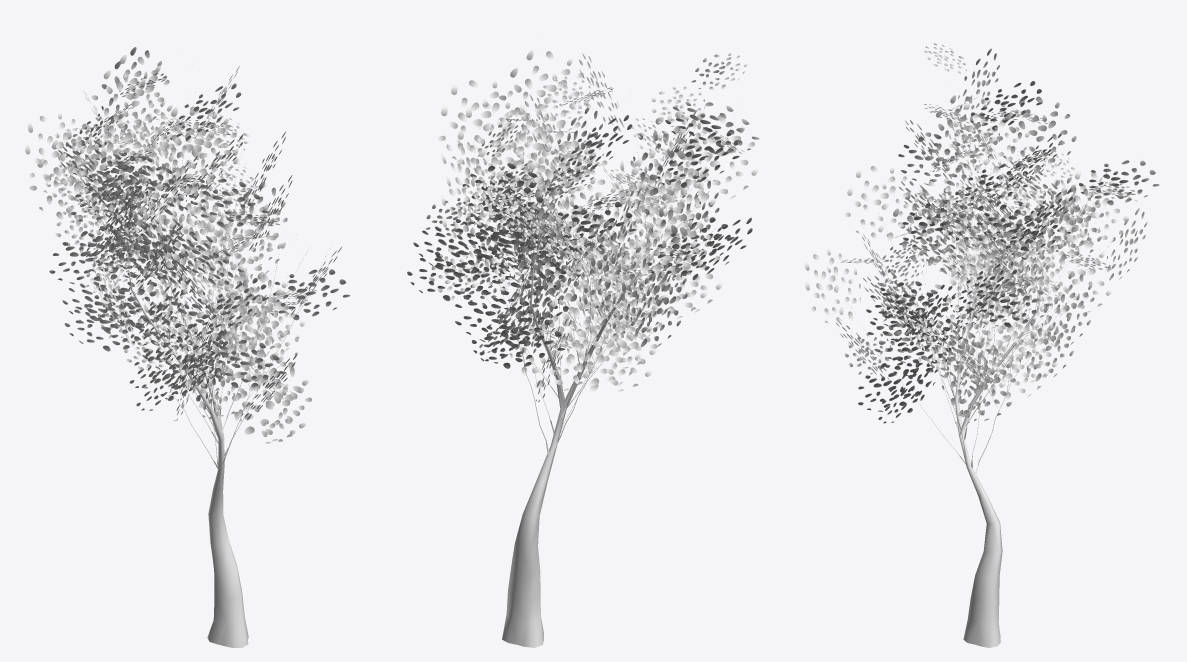
File: NaturalTree.glb
The picture shows the model from 3 angles, left to right: view 1: azimuth 30°, elevation 25°; view 2: azimuth 150°, elevation 25°; view 3: azimuth 270°, elevation 25°; orthographic projection. The views are drawn at different scales.
Visible parts, largest first — view 1: sprite_0100_1, _0; view 2: sprite_0100_1, _0; view 3: sprite_0100_1, _0.
Boxes of the visible parts, x1,y1,x2,y2 form: sprite_0100_1: (25,47,350,443); _0: (64,110,326,647); sprite_0100_1: (407,50,759,401); _0: (440,83,717,647); sprite_0100_1: (805,43,1159,423); _0: (825,123,1121,647).
Bounding box in the file's own units: 0.3609 × 0.6695 × 0.4012.
Materials: 2 (1 with a texture image).
